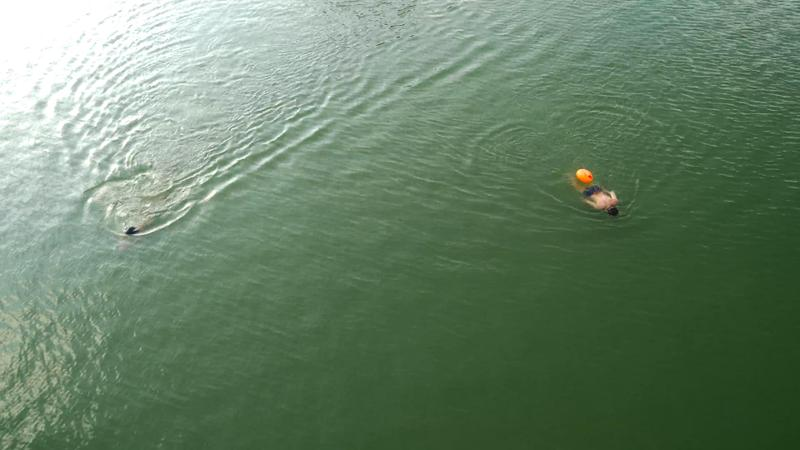swimmers: (566, 172, 620, 218)
